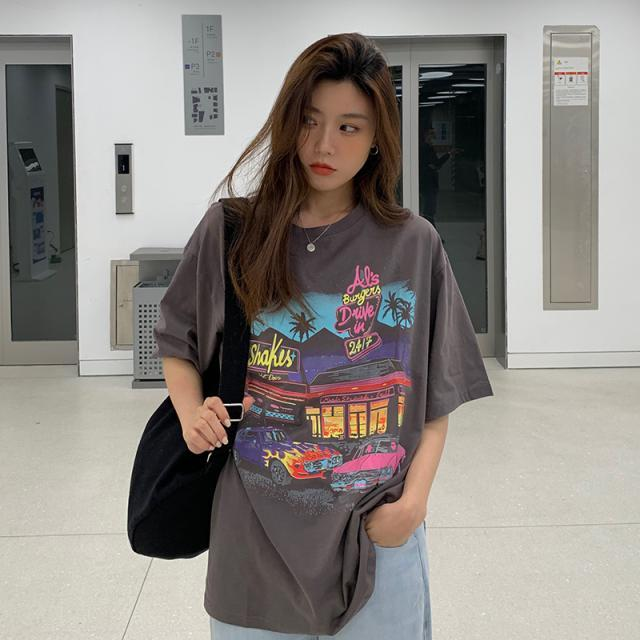Shirt: (149, 190, 500, 634)
